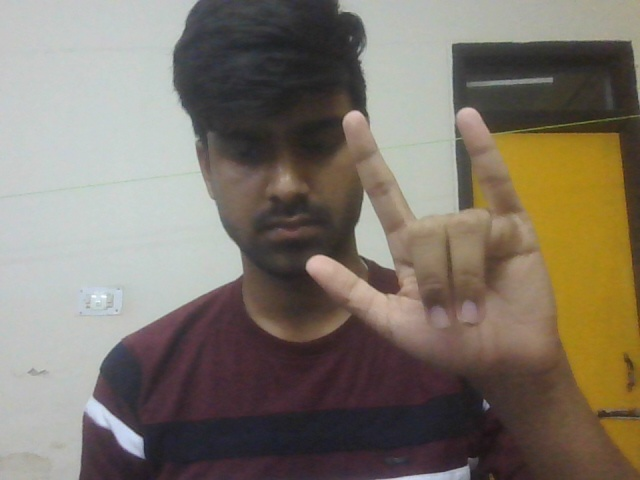iloveyou: (298, 100, 590, 395)
